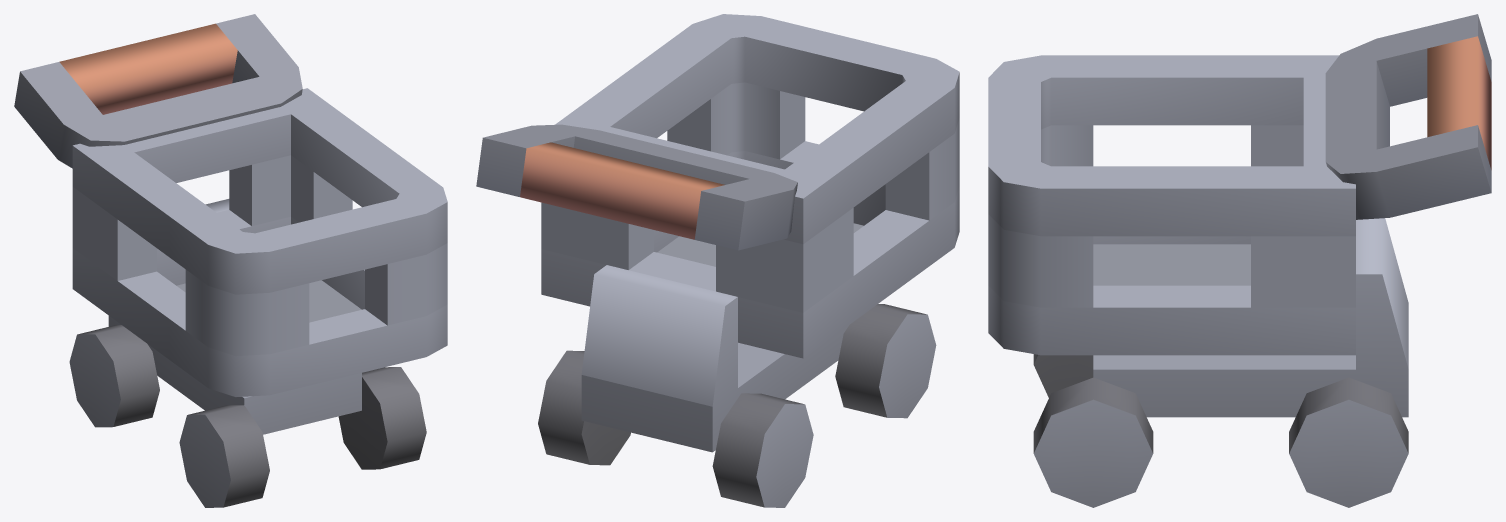
Rendered from shopping-cart.glb.
3 renders of one model, left to right at view 1: azimuth 30°, elevation 25°; view 2: azimuth 150°, elevation 25°; view 3: azimuth 270°, elevation 25°, orthographic. The views are drawn at different scales.
Parts seen in each view (by area): view 1: shopping-cart; view 2: shopping-cart; view 3: shopping-cart.
Boxes of the visible parts, bbox=[...] form: shopping-cart: bbox=[14, 14, 447, 507]; shopping-cart: bbox=[476, 14, 959, 507]; shopping-cart: bbox=[988, 14, 1491, 507].
Size of the model in its own units: 0.3 by 0.3906 by 0.4789.
